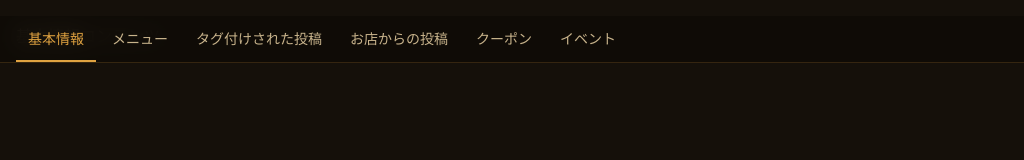
Scenario: BarTabs のアクティブ切替 › タブをクリックするとアクティブ（aria-current=page）が移り、コンテンツが切り替わる
Click the button "メニュー" at (140, 39), box [100,16,180,62]
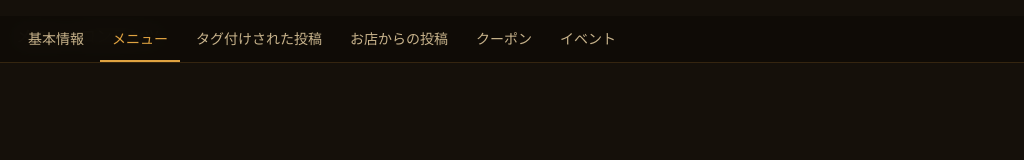
expect the text "メニューコンテンツ" is shown: met, box [16,23,160,47]
expect the text "基本情報コンテンツ" is gone: met
